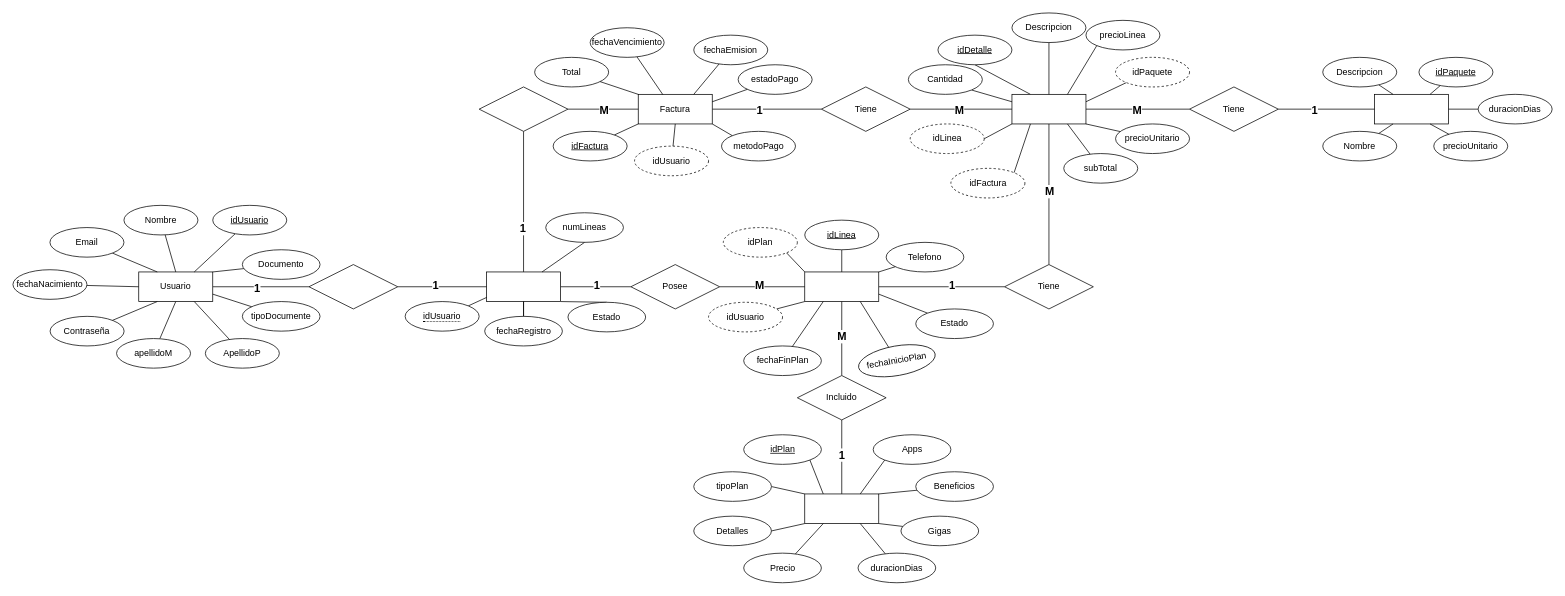
Some shapes in this 1565 by 596 pixel diagram are drawn without their labels. Here are the shapes that lost their labels. From the top down, the box of each, then its label:
(478, 86, 568, 131): Genera
(1011, 94, 1086, 124): detalleFactura
(1374, 94, 1449, 124): paqueteAdicional
(308, 264, 398, 309): Divide
(486, 271, 561, 302): Cliente
(804, 271, 879, 302): Linea
(804, 493, 879, 524): Plan
